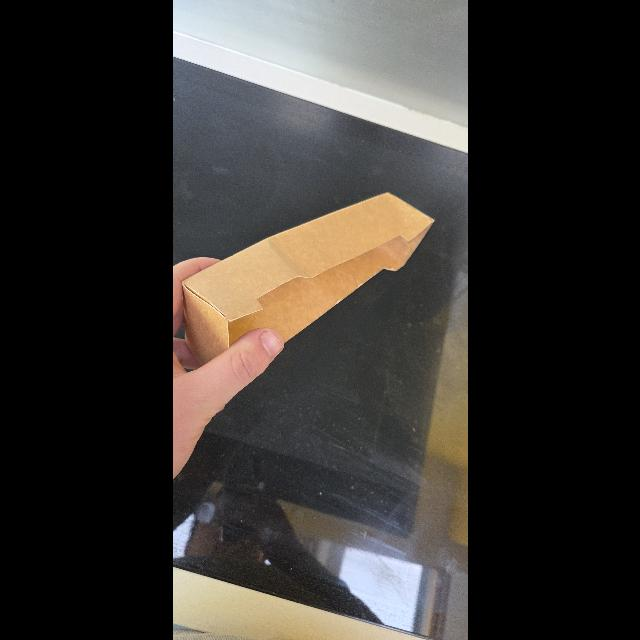Cardboard: (184, 196, 436, 366)
